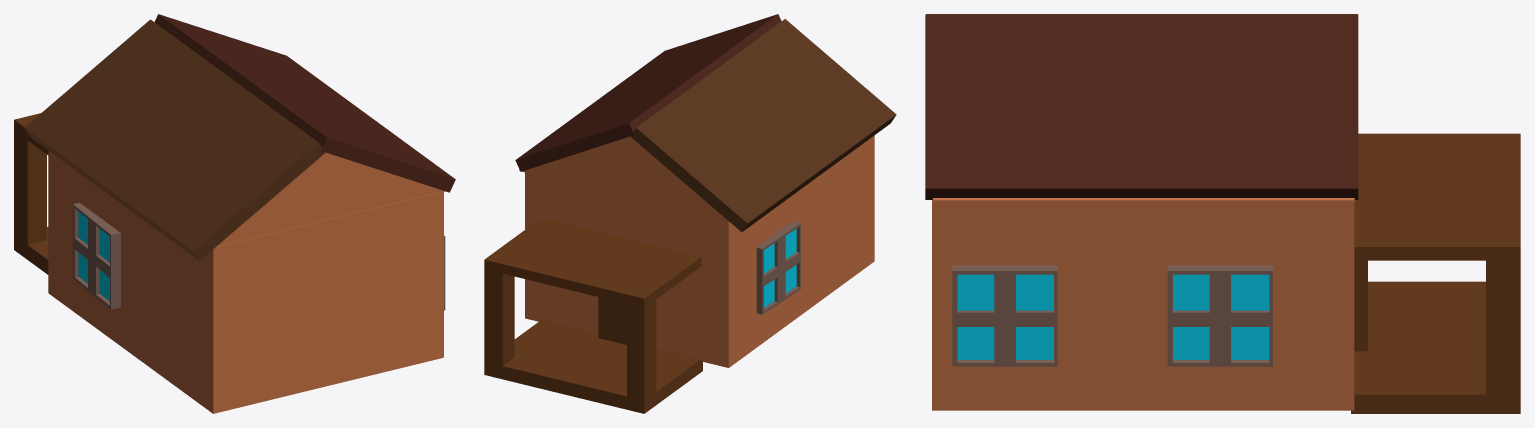
File: casa  tipo 3.fbx
3 views of the same model, side by side, from view 1: azimuth 30°, elevation 25°; view 2: azimuth 150°, elevation 25°; view 3: azimuth 270°, elevation 25° (orthographic). The views are drawn at different scales.
Visible parts, largest first — view 1: Cube, Cube.002, Cube.001, Cube.003, Cube.008, Cube.009; view 2: Cube, Cube.002, Cube.003, Cube.001, Cube.008, Cube.009; view 3: Cube.001, Cube, Cube.003, Cube.006, Cube.005, Cube.004, Cube.007.
Part boxes in pixels (left/top/right/bottom): Cube: left=48, top=151, right=445, bottom=413; Cube.002: left=24, top=19, right=325, bottom=260; Cube.001: left=154, top=14, right=455, bottom=192; Cube.003: left=14, top=113, right=48, bottom=274; Cube.008: left=73, top=203, right=120, bottom=309; Cube.009: left=78, top=211, right=109, bottom=301; Cube: left=519, top=135, right=874, bottom=367; Cube.002: left=630, top=19, right=896, bottom=231; Cube.003: left=484, top=217, right=702, bottom=413; Cube.001: left=515, top=14, right=781, bottom=171; Cube.008: left=756, top=221, right=800, bottom=314; Cube.009: left=764, top=229, right=796, bottom=307; Cube.001: left=925, top=14, right=1358, bottom=199; Cube: left=932, top=198, right=1354, bottom=410; Cube.003: left=1351, top=133, right=1520, bottom=413; Cube.006: left=952, top=265, right=1057, bottom=366; Cube.005: left=1167, top=265, right=1272, bottom=366; Cube.004: left=1173, top=274, right=1269, bottom=359; Cube.007: left=957, top=274, right=1053, bottom=359.
Size of the model in its own units: 575 by 550 by 881.
